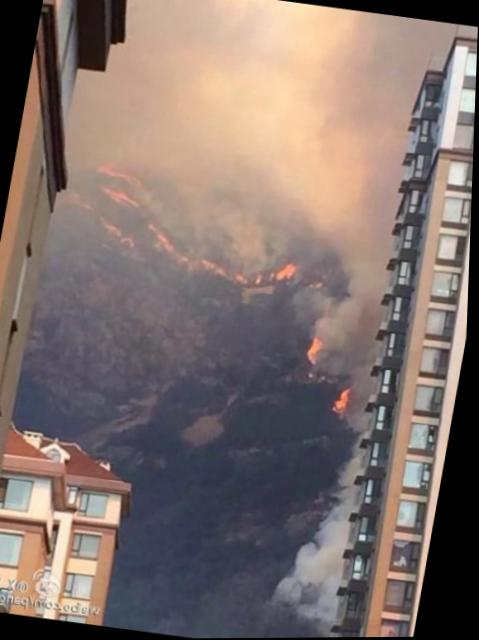fire: (335, 384, 357, 419), (308, 335, 328, 366), (276, 261, 300, 283)
